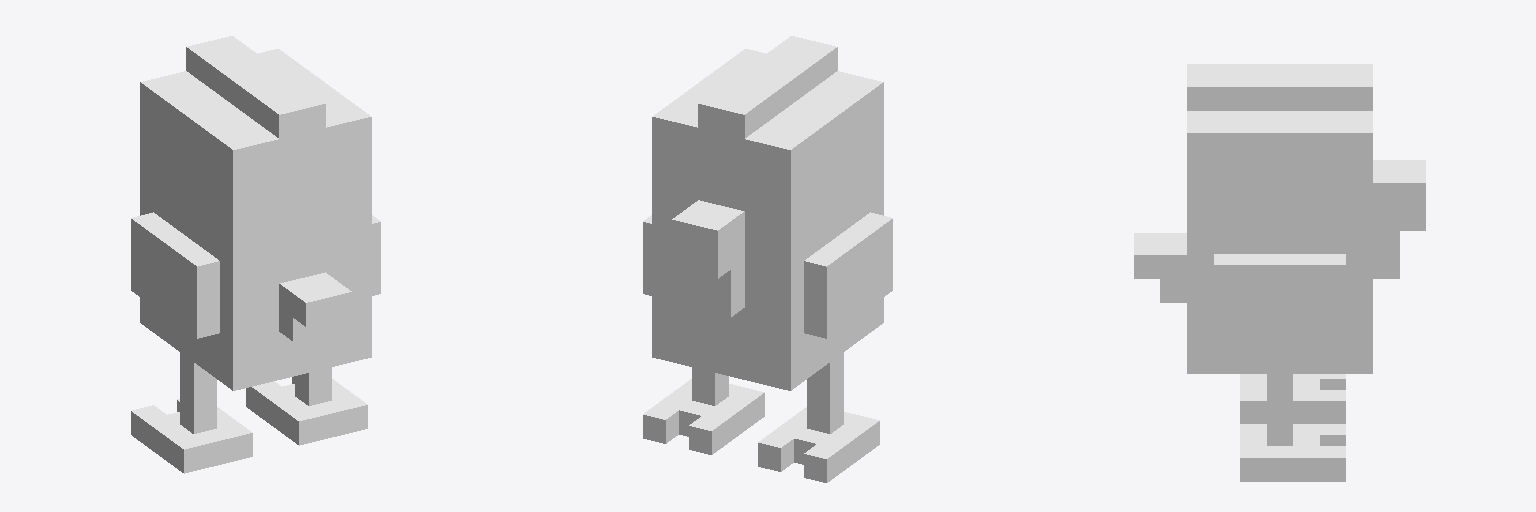
The model's file is crossyroads_chicken.obj.
The picture shows the model from 3 angles: view 1: azimuth 30°, elevation 25°; view 2: azimuth 150°, elevation 25°; view 3: azimuth 270°, elevation 25°; orthographic projection.
Visible parts, largest first — view 1: crossyroads_chicken; view 2: crossyroads_chicken; view 3: crossyroads_chicken.
Boxes of the visible parts, box(x1,y1,x2,y2) form: crossyroads_chicken: box(131, 36, 380, 473); crossyroads_chicken: box(643, 36, 892, 482); crossyroads_chicken: box(1134, 64, 1425, 481).
Size of the model in its own units: 8 by 15 by 11.